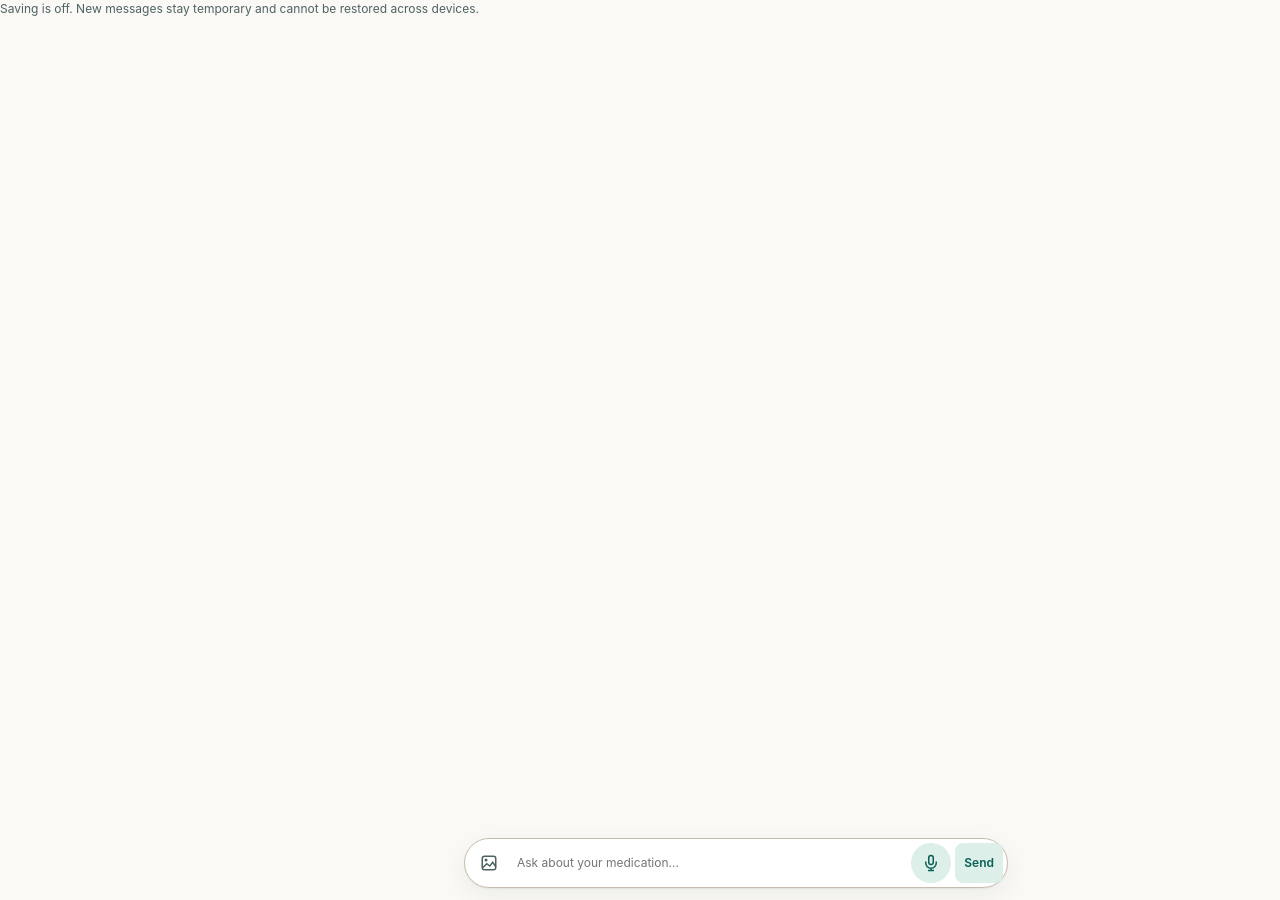
Test case: adopts resumed history as text without restoring historical confirmation controls
Type "DEMO request" into the field at [710, 863], box [513,843,907,883]
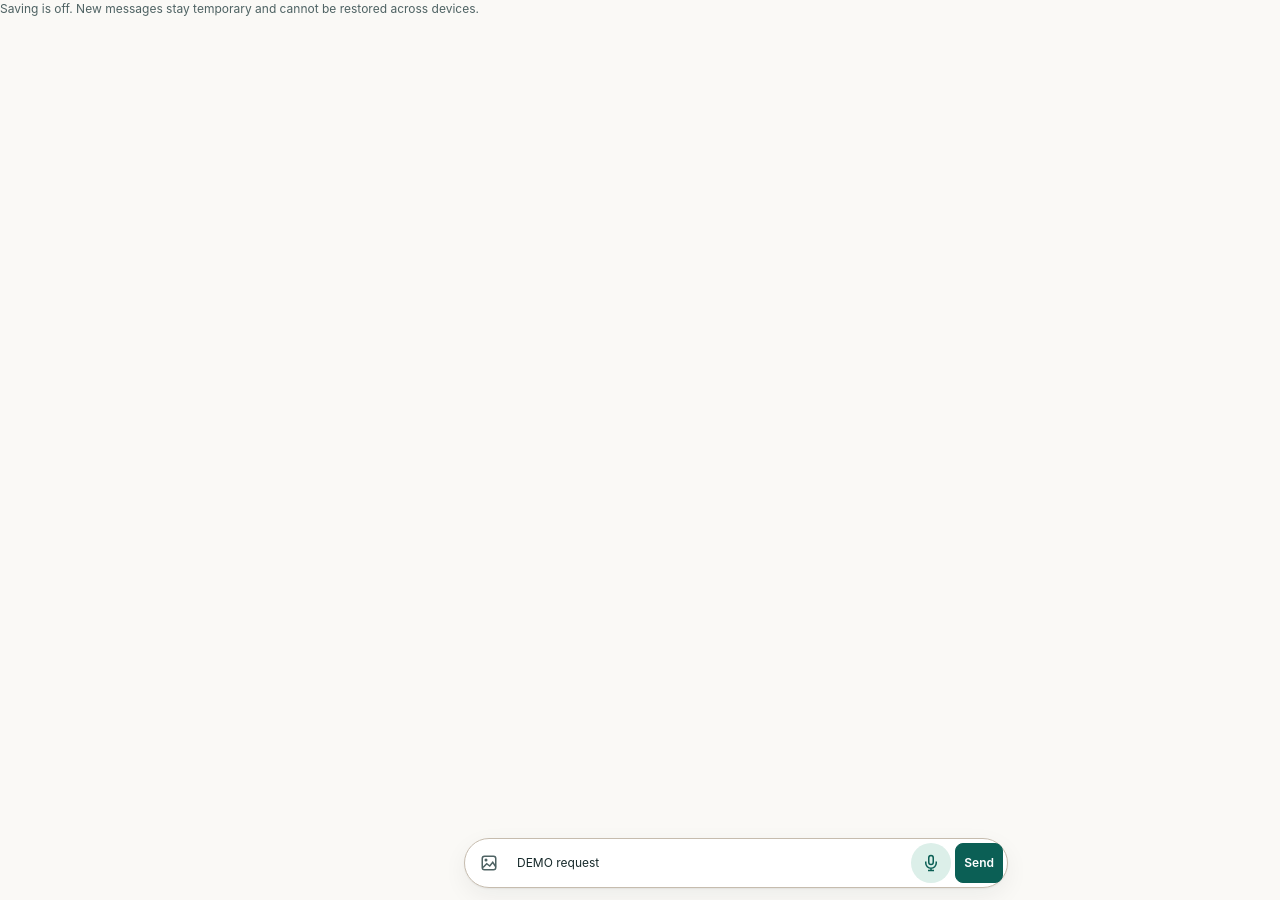
Click the button "Send" at [979, 863], box [955,843,1003,883]
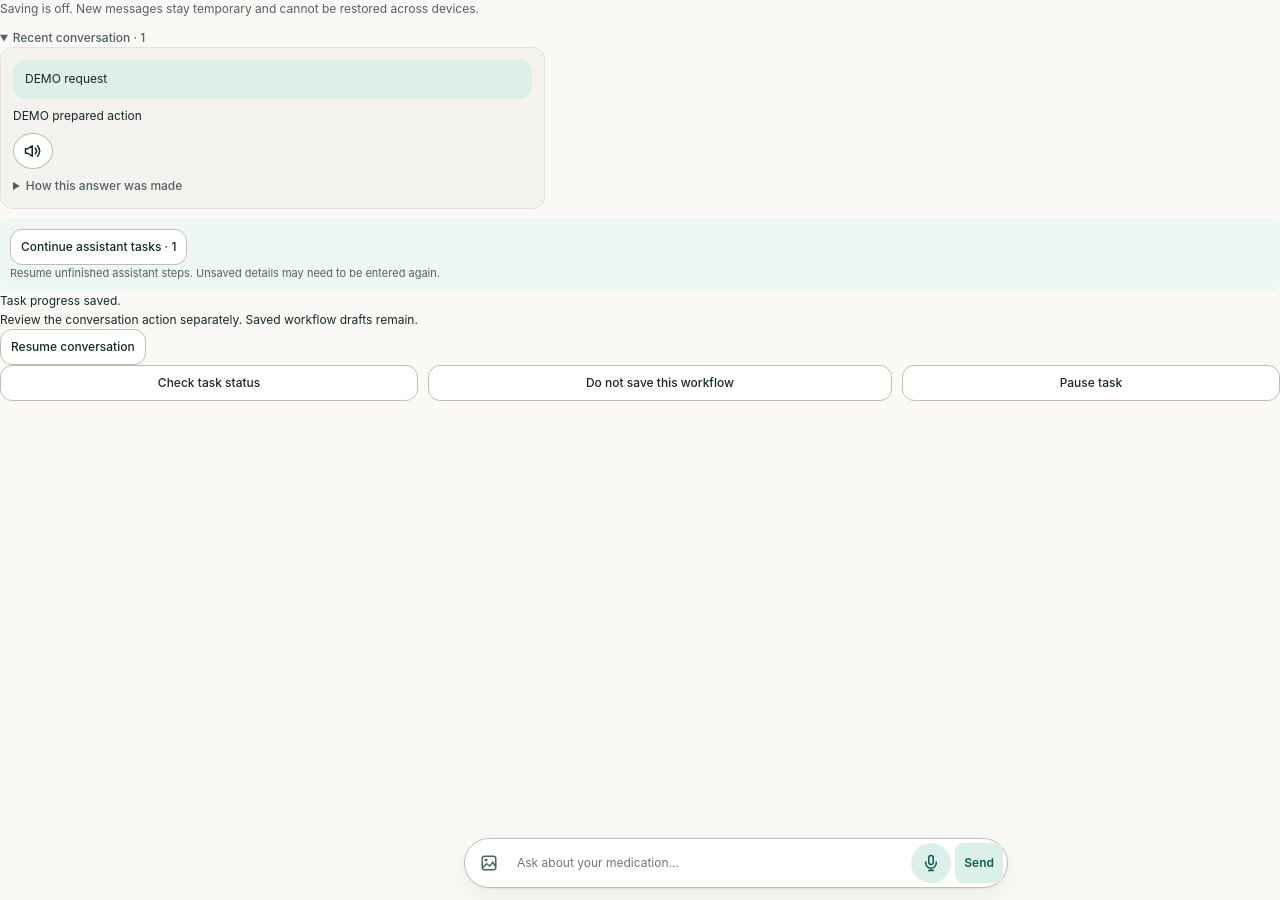
Expected: the text "DEMO prepared action" is shown, [13,108,142,123]
Click the button "Resume conversation" at [73, 347], box [0,329,146,365]
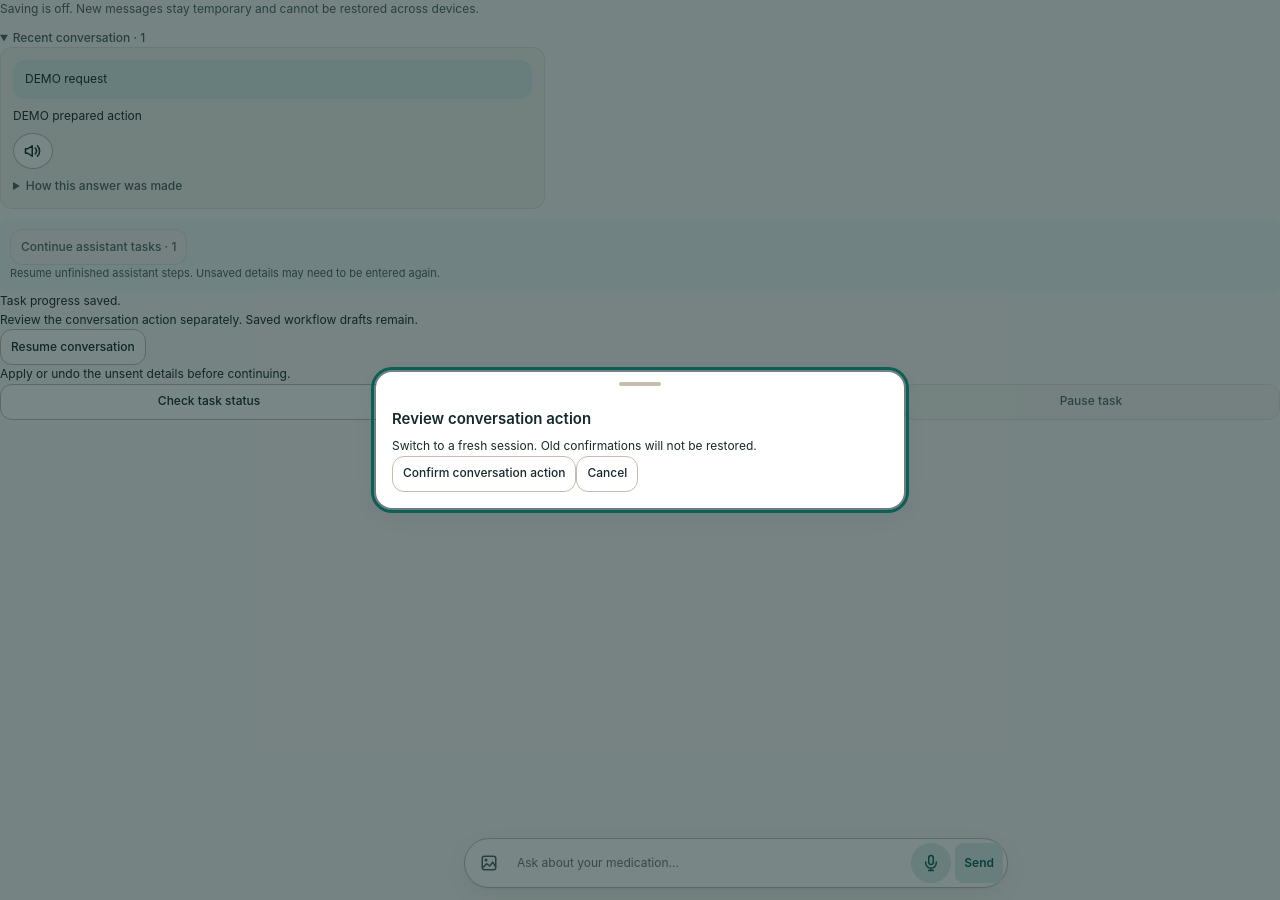
Click the button "Confirm conversation action" at [484, 474], box [392,456,576,492]
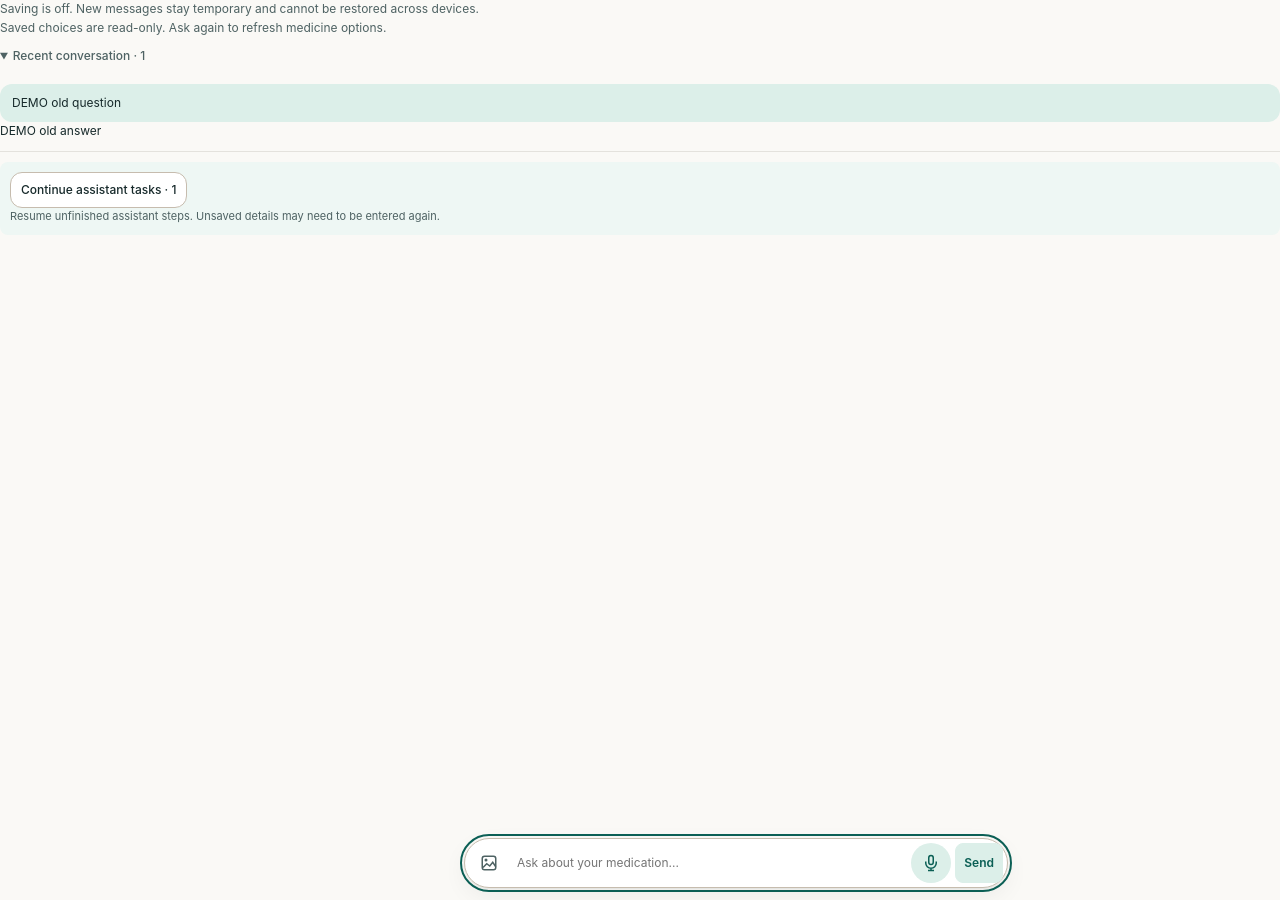
Expected: the text "DEMO old answer" is shown, [0,123,101,138]
